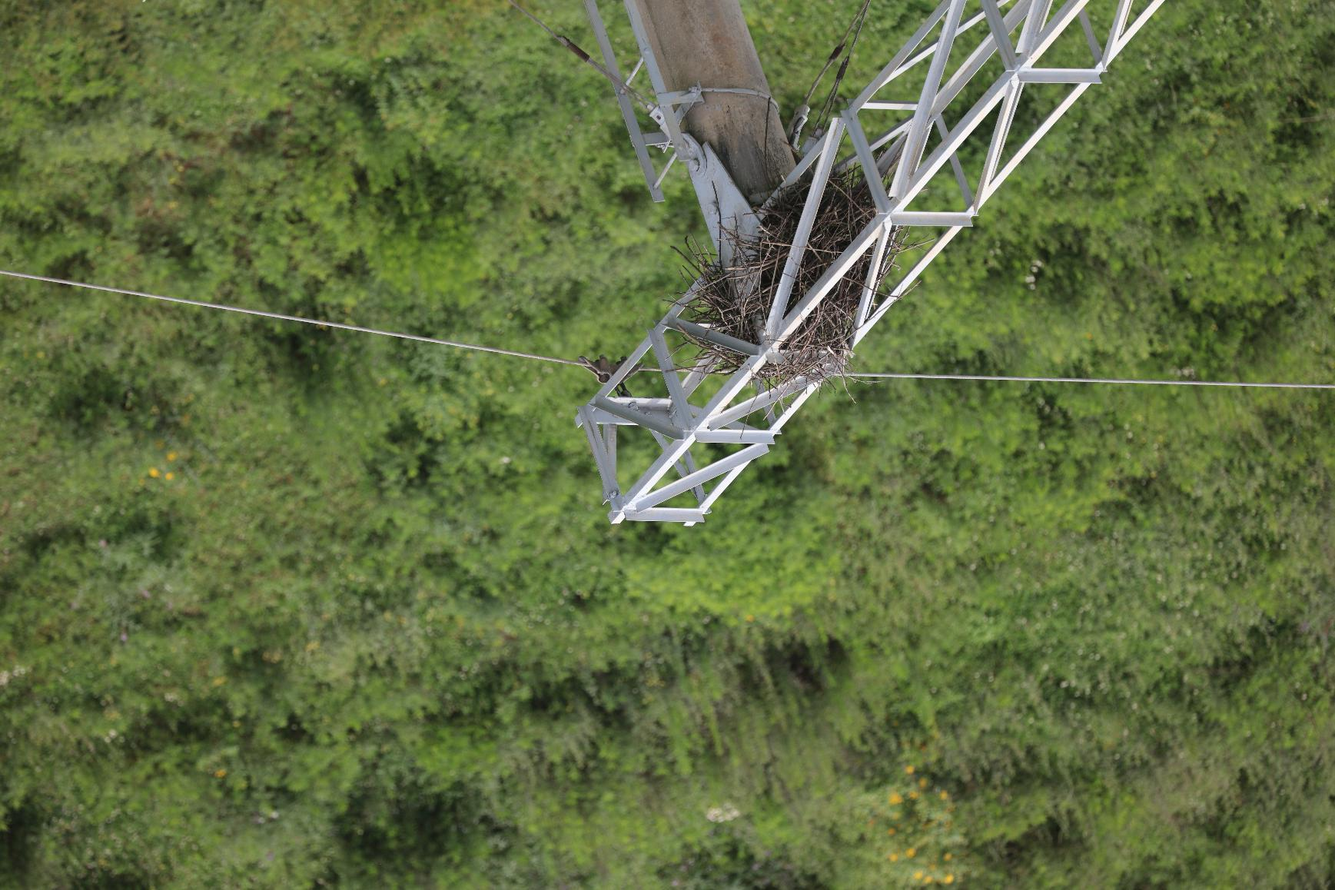nest: (671, 163, 882, 388)
